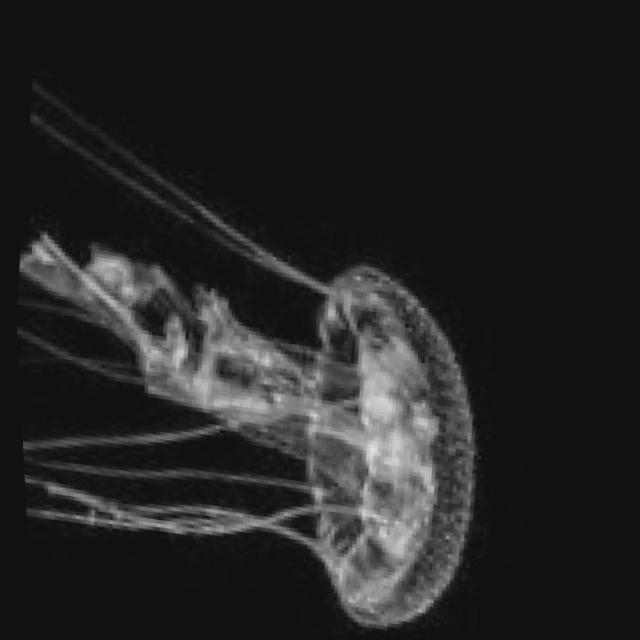Moon-jellyfish: (9, 211, 504, 640)
